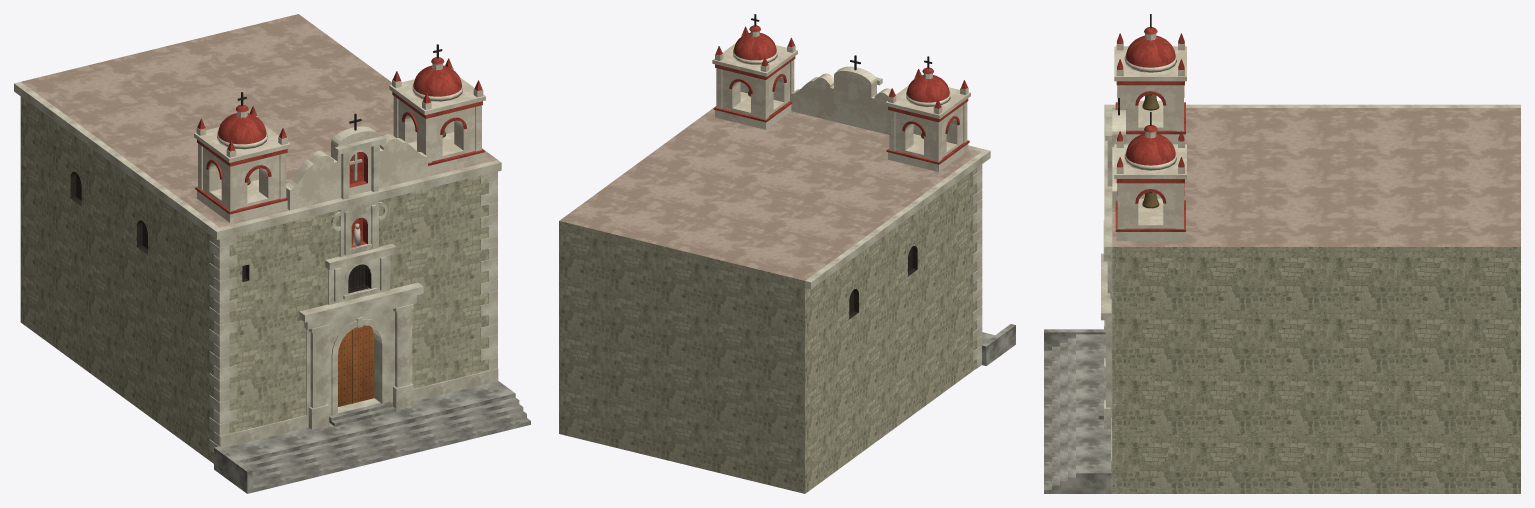
The model's file is sangre_de_cristo.obj.
The picture shows the model from 3 angles, left to right: view 1: azimuth 30°, elevation 25°; view 2: azimuth 150°, elevation 25°; view 3: azimuth 270°, elevation 25°; orthographic projection. The views are drawn at different scales.
Visible parts, largest first — view 1: sangre_de_cristo; view 2: sangre_de_cristo; view 3: sangre_de_cristo.
Boxes of the visible parts, x1,y1,x2,y2 form: sangre_de_cristo: [14, 14, 530, 493]; sangre_de_cristo: [559, 14, 1015, 493]; sangre_de_cristo: [1044, 14, 1520, 493].
Size of the model in its own units: 14.85 by 17.55 by 21.
